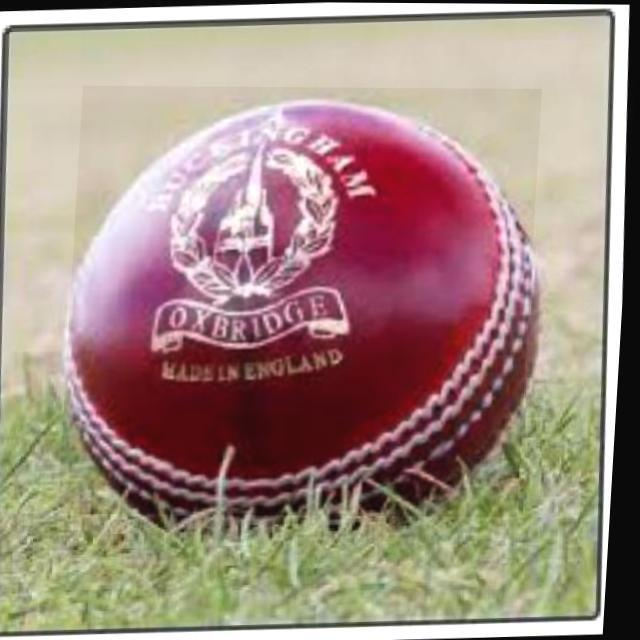Red_Ball: (41, 93, 551, 540)
